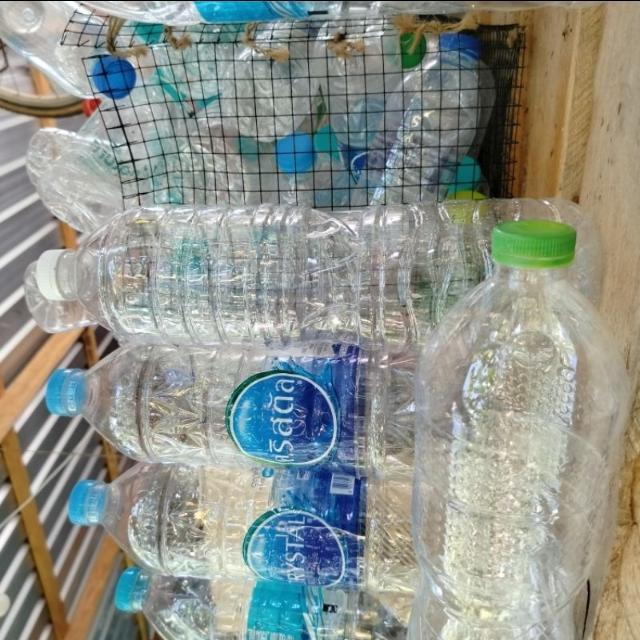PET Bottle: (6, 0, 567, 208), (406, 206, 630, 640), (9, 202, 627, 337), (26, 339, 450, 469), (16, 462, 474, 582), (48, 567, 437, 640)
